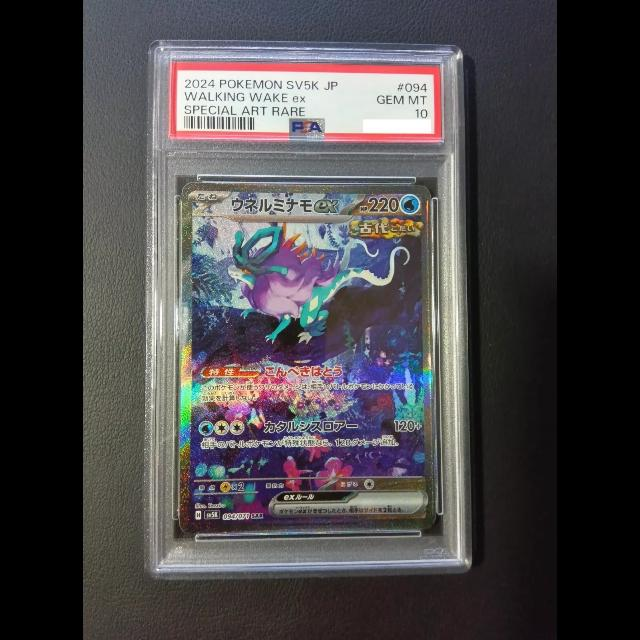card: (177, 180, 438, 535)
psa_label: (169, 60, 444, 141)
psa_slab: (141, 40, 473, 579)
